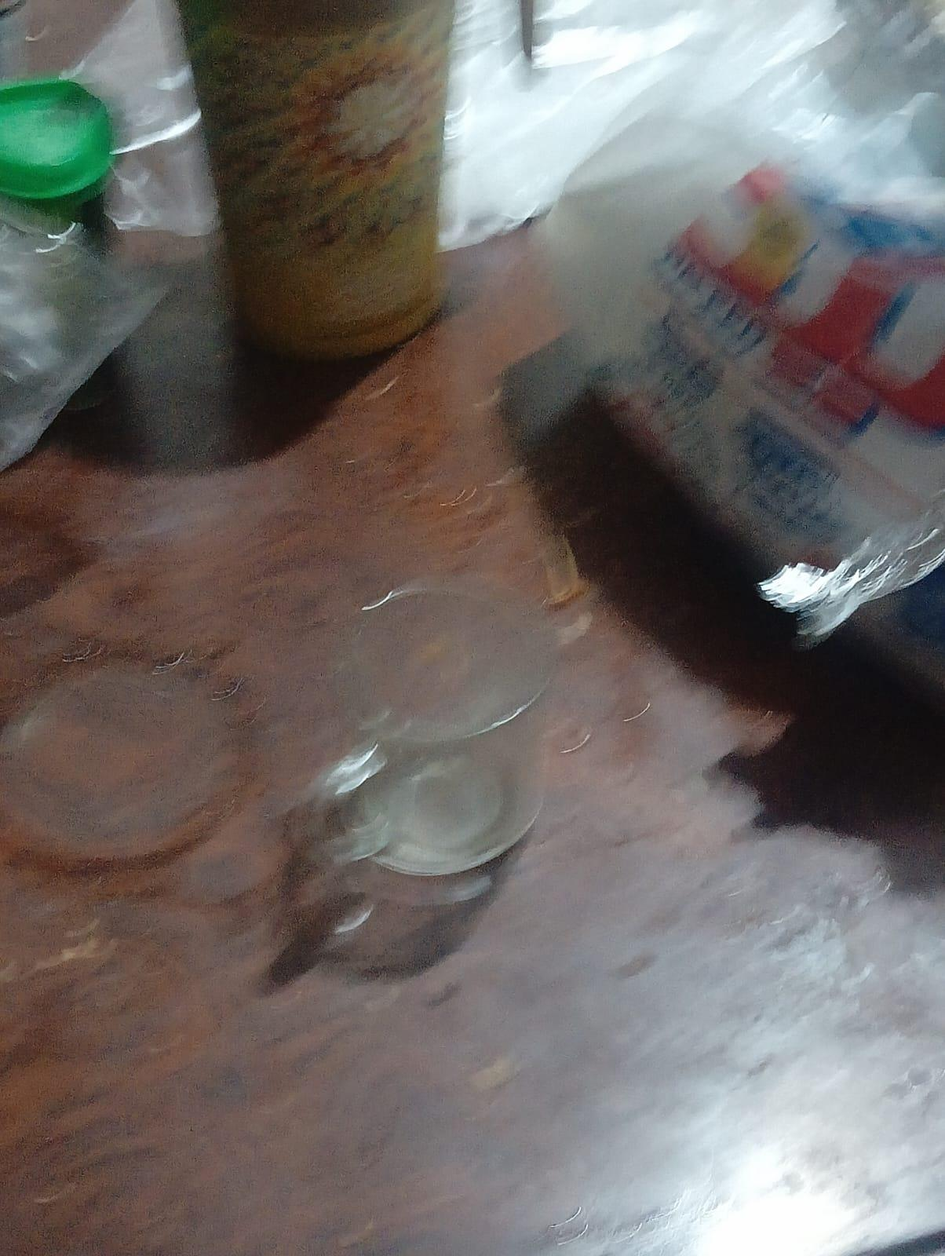cup: (317, 582, 552, 875)
